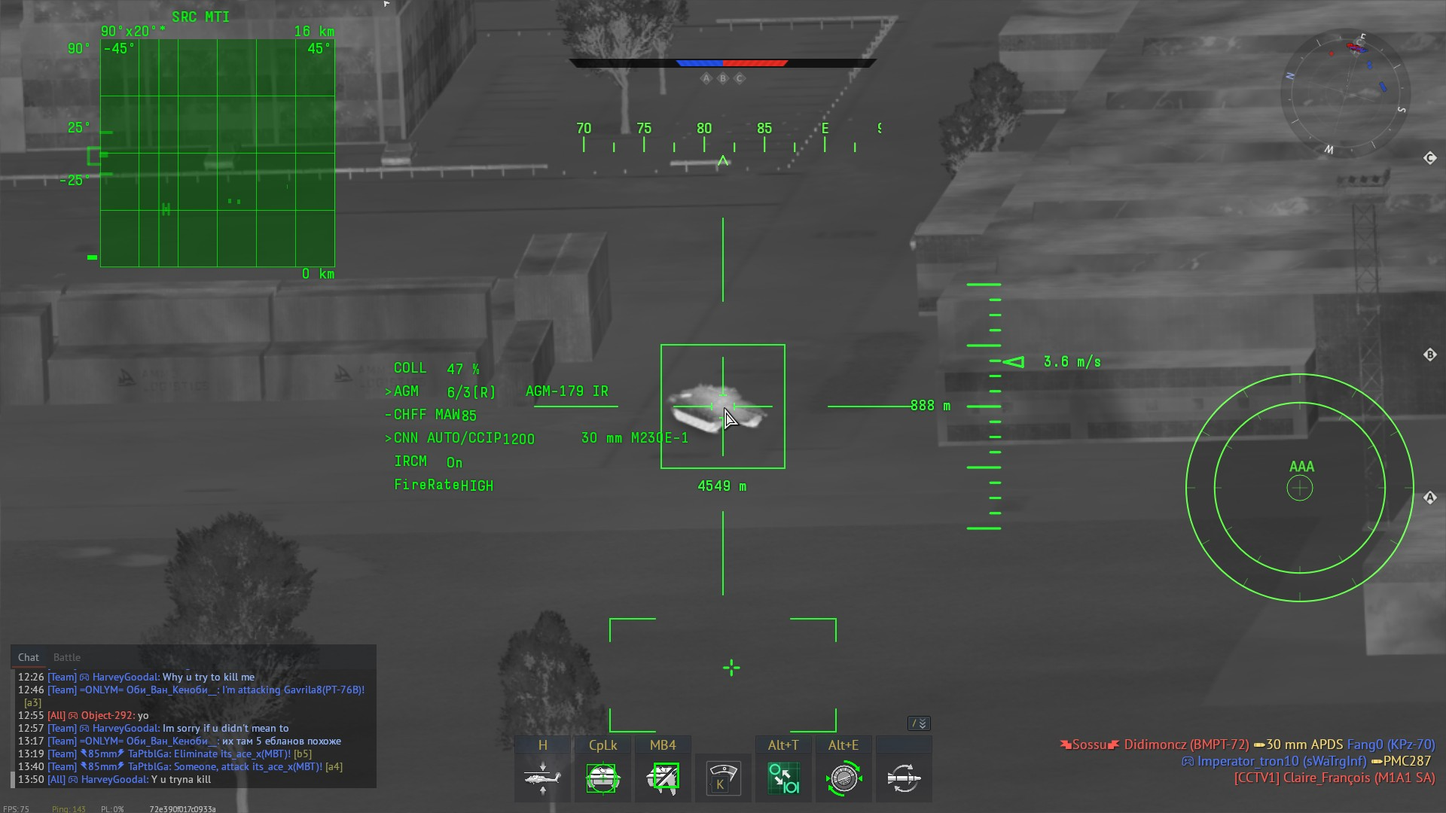t72b: (666, 385, 769, 432)
